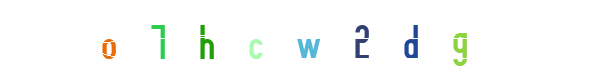2: (286, 0, 366, 80)
7: (131, 0, 211, 80)
C: (226, 0, 306, 80)
D: (348, 0, 428, 80)
G: (390, 0, 470, 80)
H: (165, 0, 245, 80)
O: (69, 0, 149, 80)
W: (259, 0, 339, 80)
